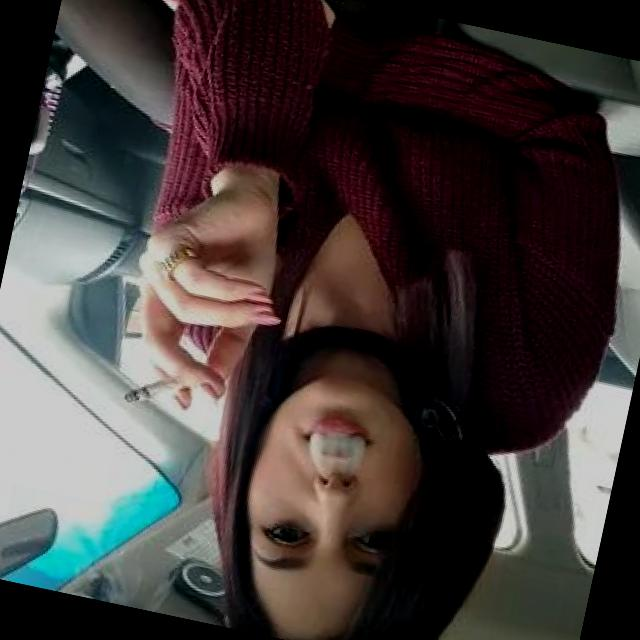cigarette: (117, 358, 203, 416)
